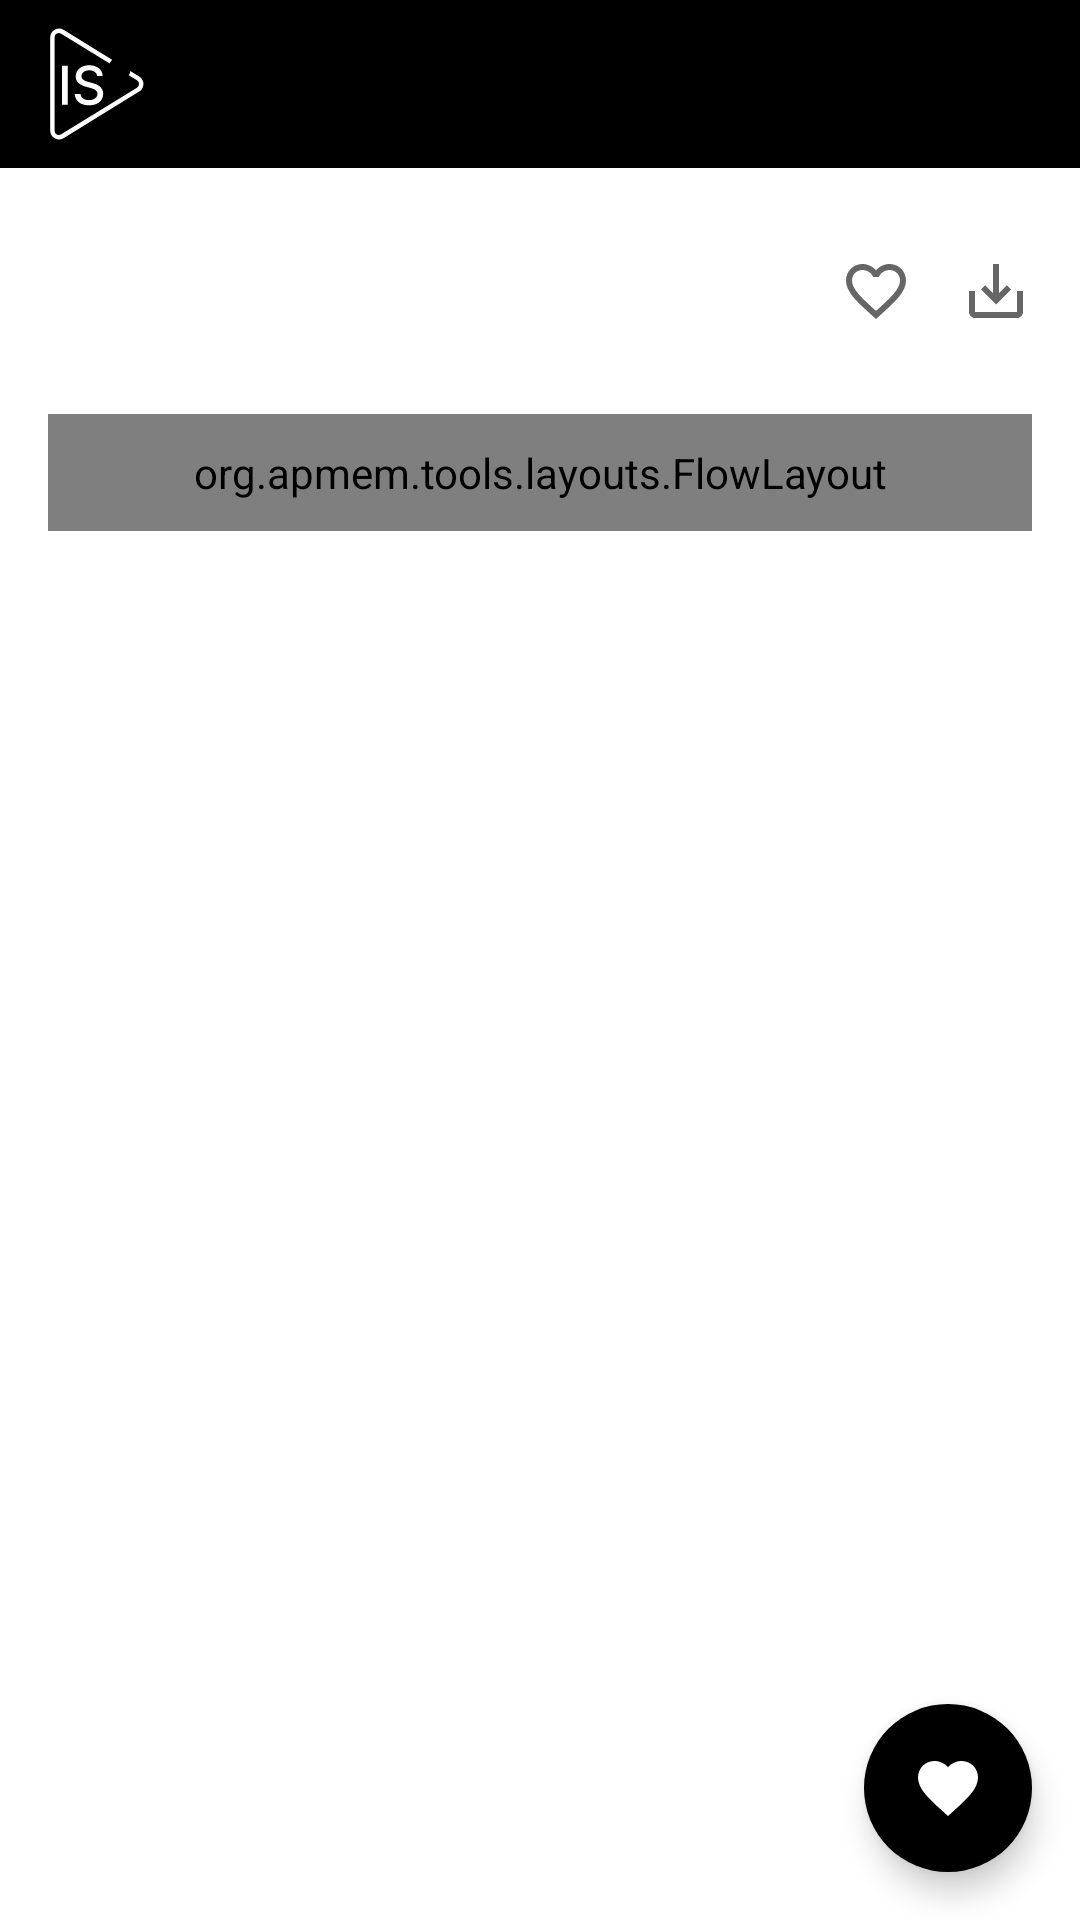

Icons on this 1080 × 1920 Android screen, each with its box as [x1,y1,x2,y2]:
favorite: [864,1704,1032,1872]
favorite border: [846,264,906,319]
save: [969,264,1023,318]
